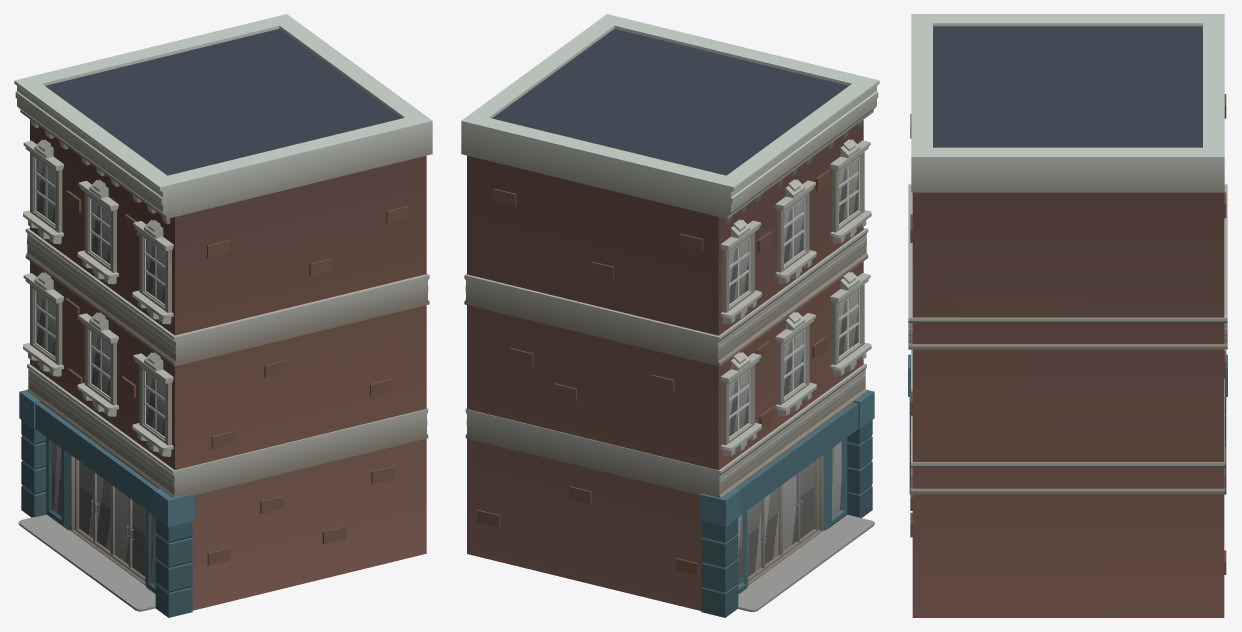
File: Building_21_3_H.fbx
3 views of the same model, side by side, from view 1: azimuth 30°, elevation 25°; view 2: azimuth 150°, elevation 25°; view 3: azimuth 270°, elevation 25° (orthographic). The views are drawn at different scales.
Visible parts, largest first — view 1: Building_21_3_H; view 2: Building_21_3_H; view 3: Building_21_3_H.
Part boxes in pixels (<box>): Building_21_3_H: <box>14,14,432,617</box>; Building_21_3_H: <box>461,14,879,617</box>; Building_21_3_H: <box>908,14,1227,617</box>.
Size of the model in its own units: 779 by 1141 by 713.
